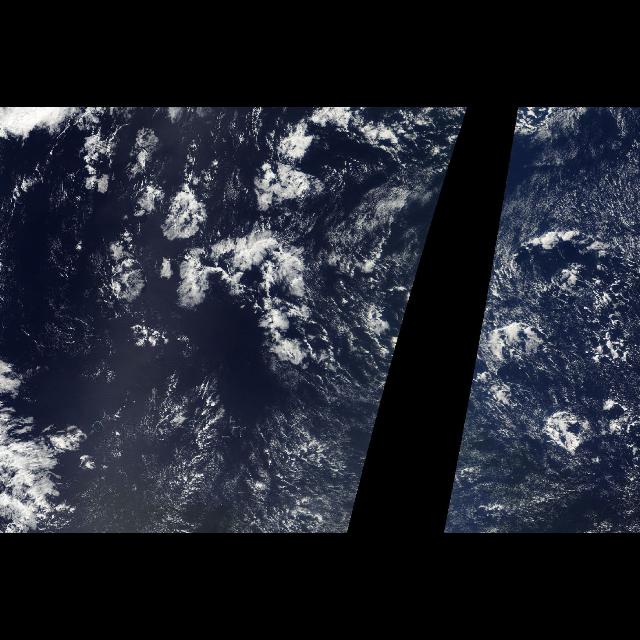Fish: (98, 352, 255, 532)
Flower: (63, 112, 365, 376)
Gravel: (492, 210, 640, 420)
Sugar: (441, 141, 639, 533), (120, 384, 388, 534)
